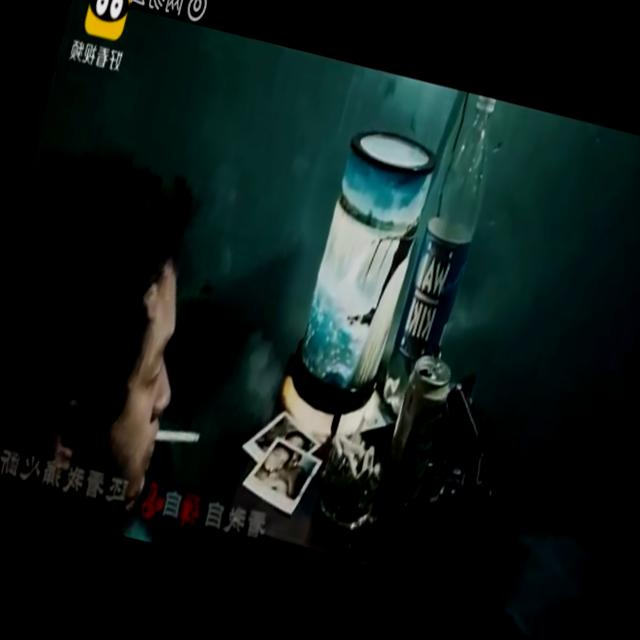smoke: (152, 416, 206, 460)
